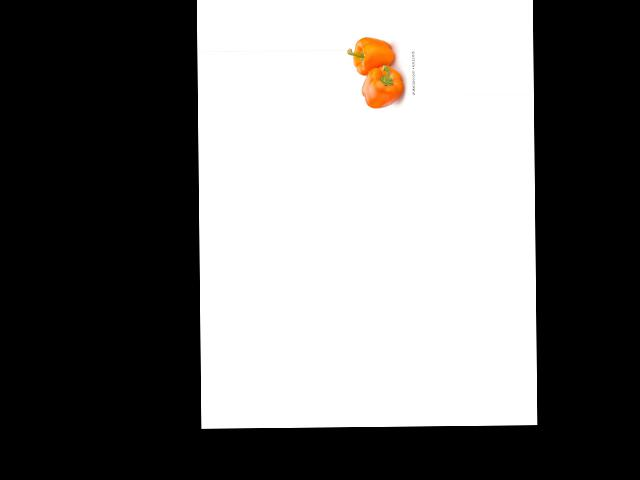bell_pepper: (360, 63, 408, 109)
